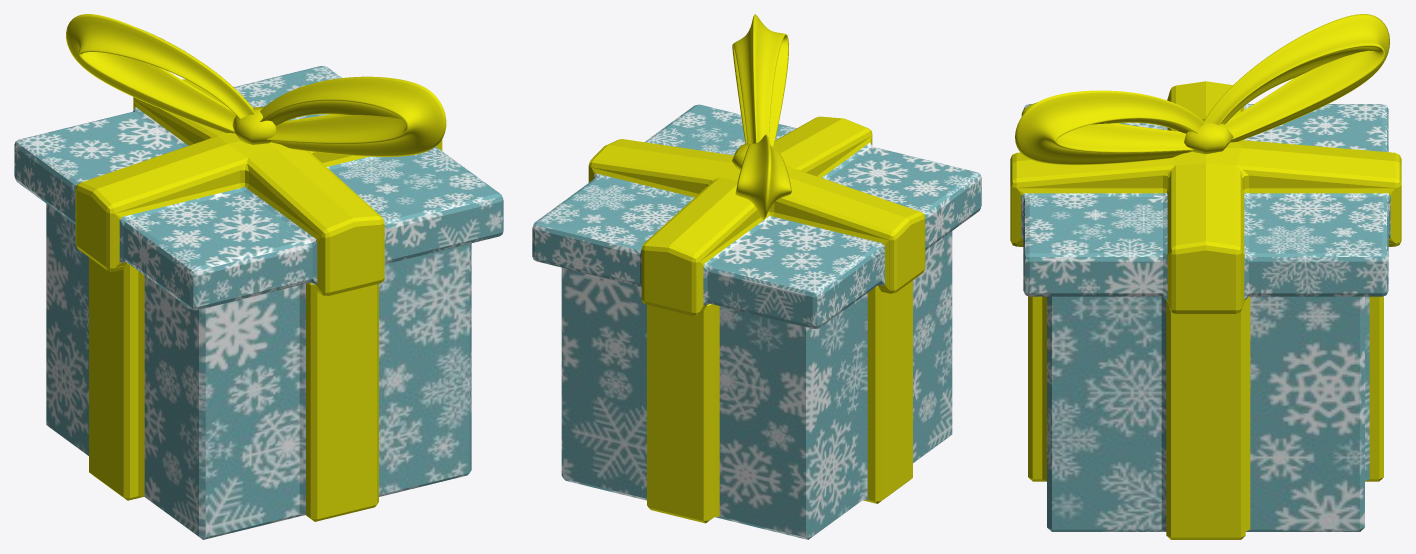
File: BoxGift.glb
3 views of the same model, side by side, from view 1: azimuth 30°, elevation 25°; view 2: azimuth 150°, elevation 25°; view 3: azimuth 270°, elevation 25° (orthographic). The views are drawn at different scales.
Visible parts, largest first — view 1: gift_box_merged; view 2: gift_box_merged; view 3: gift_box_merged.
Boxes of the visible parts, x1,y1,x2,y2 form: gift_box_merged: (14, 14, 503, 539); gift_box_merged: (532, 14, 981, 539); gift_box_merged: (1010, 14, 1401, 539).
Size of the model in its own units: 2.46 by 2.84 by 2.46.
Materials: 2 (1 with a texture image).
